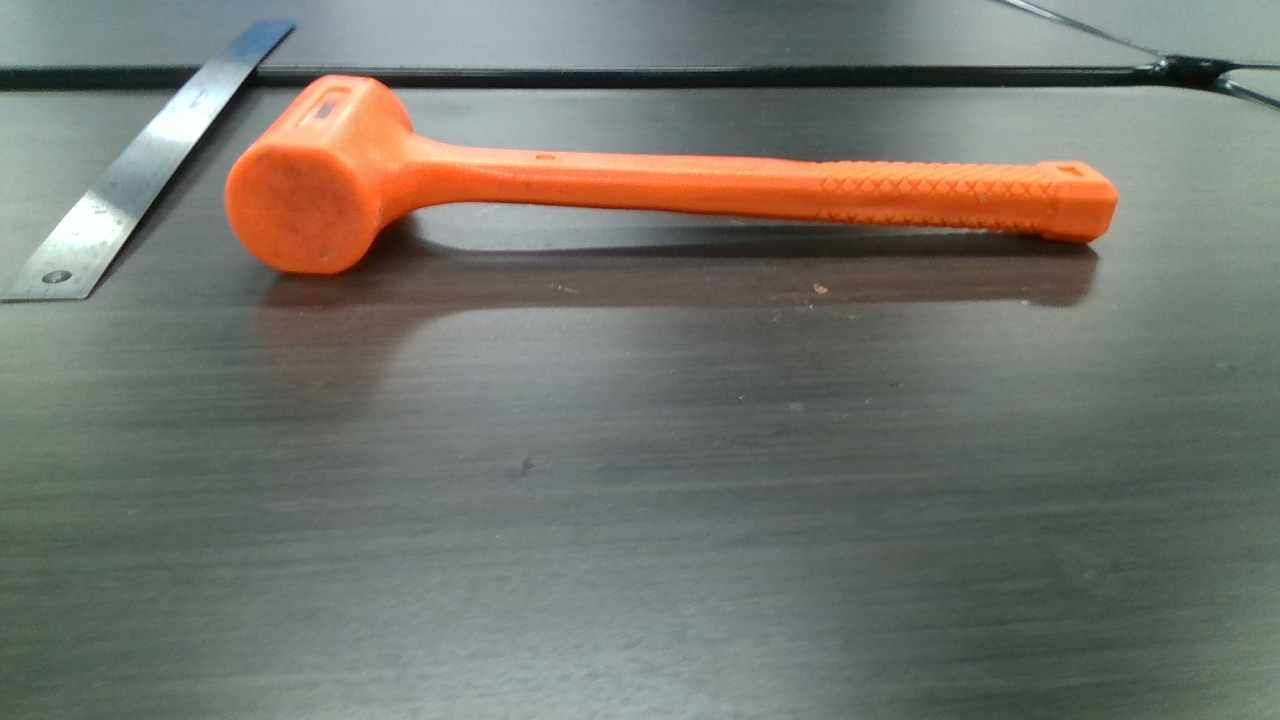Orange Hammer: (235, 75, 1113, 273)
